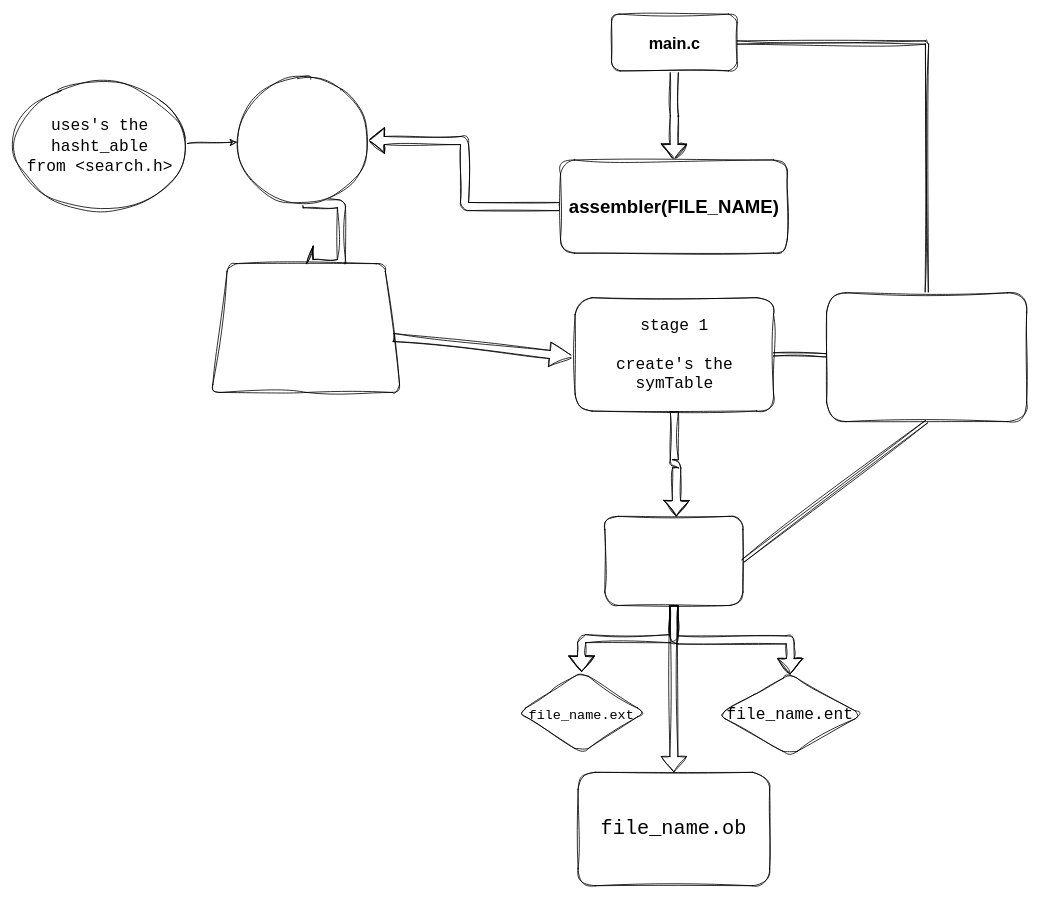
The diagram is 1041 pixels wide and 900 high, and some of its shapes have lost their labels. The shapes that lost their labels are listed below. From the top down, each one's centre as x and y in pixels, then its label:
At [302,140]: "first_parse.c using macro parse".
At [306,327]: "output's the parsed macro file filename.am".
At [926,357]: "the main file create a pointer SYMTABLEPTR manager".
At [673,560]: "stage 2 create's the output files".
